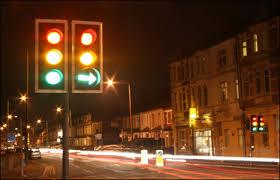signal: (35, 19, 67, 91), (71, 20, 103, 92)
